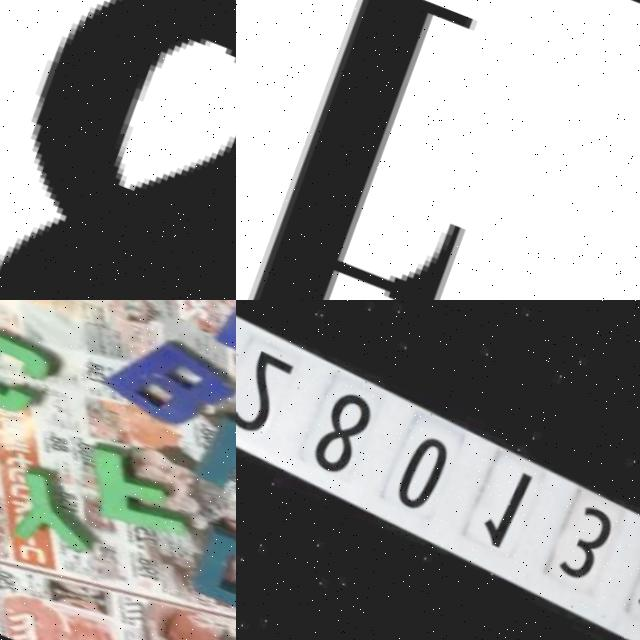0: (369, 423, 458, 525)
1: (447, 453, 544, 563)
2: (236, 338, 300, 449), (612, 529, 640, 631)
3: (535, 493, 626, 596)
8: (0, 0, 236, 300), (284, 377, 383, 491)
B: (93, 329, 234, 443)
C: (0, 318, 62, 420)
D: (170, 523, 236, 630)
F: (236, 0, 590, 300), (74, 442, 204, 547)
K: (182, 409, 236, 518)
Y: (0, 464, 110, 564)
